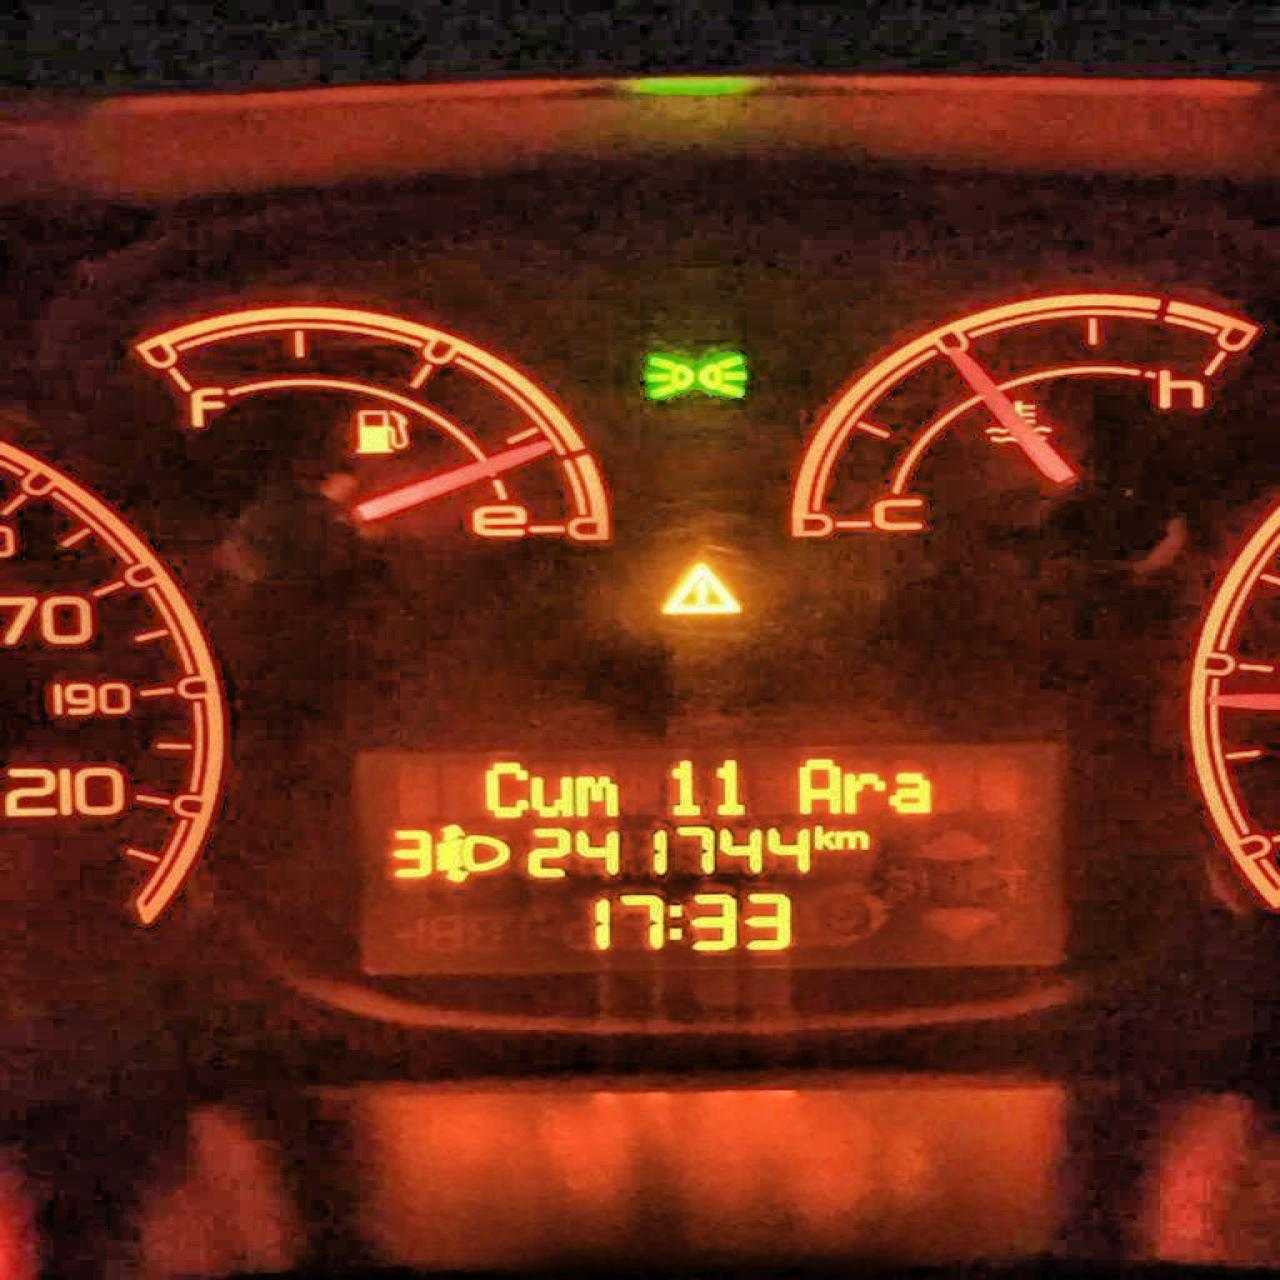1: (712, 756, 747, 817), (668, 756, 700, 817), (588, 893, 612, 959), (648, 825, 668, 877)
2: (526, 824, 573, 878)
3: (742, 888, 791, 953), (690, 890, 737, 952), (388, 826, 434, 878)
4: (763, 824, 812, 874), (716, 823, 763, 876), (573, 825, 620, 876)
7: (619, 891, 663, 949), (674, 822, 714, 873)
X: (795, 755, 842, 815), (485, 760, 530, 819), (888, 769, 934, 815), (573, 772, 620, 817), (842, 769, 886, 813), (530, 772, 573, 817), (836, 828, 872, 852), (667, 900, 683, 944), (813, 823, 835, 851)
odometer: (345, 733, 1074, 981)
